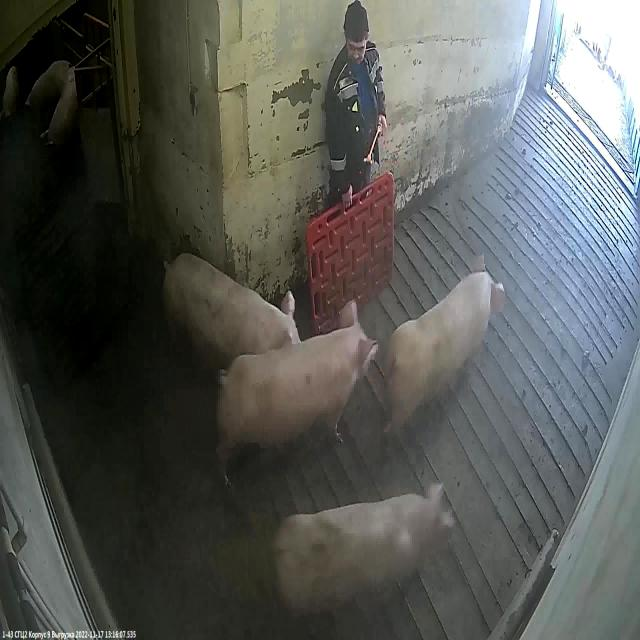pig: (216, 320, 379, 494), (274, 484, 445, 619), (384, 271, 504, 449), (163, 254, 301, 383), (37, 74, 80, 162), (24, 61, 72, 115), (0, 76, 14, 115)
